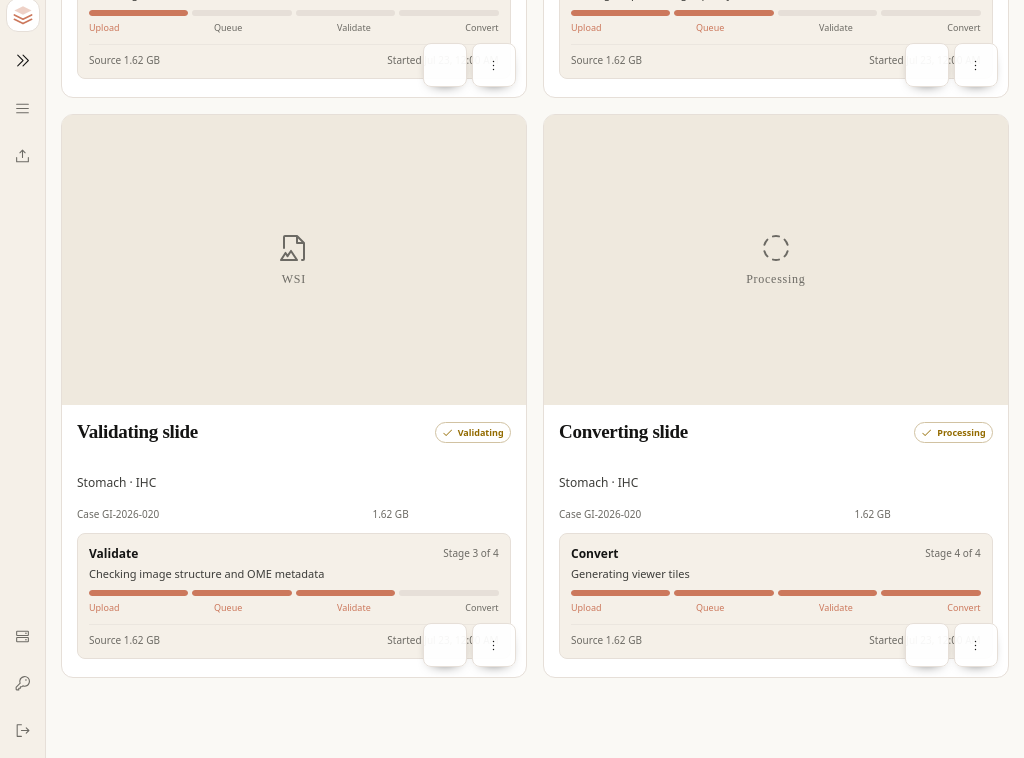
Canvas Focus library explorer › shows honest processing stages and removes completed files
The width and height of the screenshot is (1024, 758).
(page scrolled)
Expected: the text "Checking image structure and OME metadata" is shown, [89,566,325,581]
Expected: the text "Generating viewer tiles" is shown, [571,566,690,581]
Click the checkbox named "Select Converting slide" at (927, 645), box [905,623,949,667]
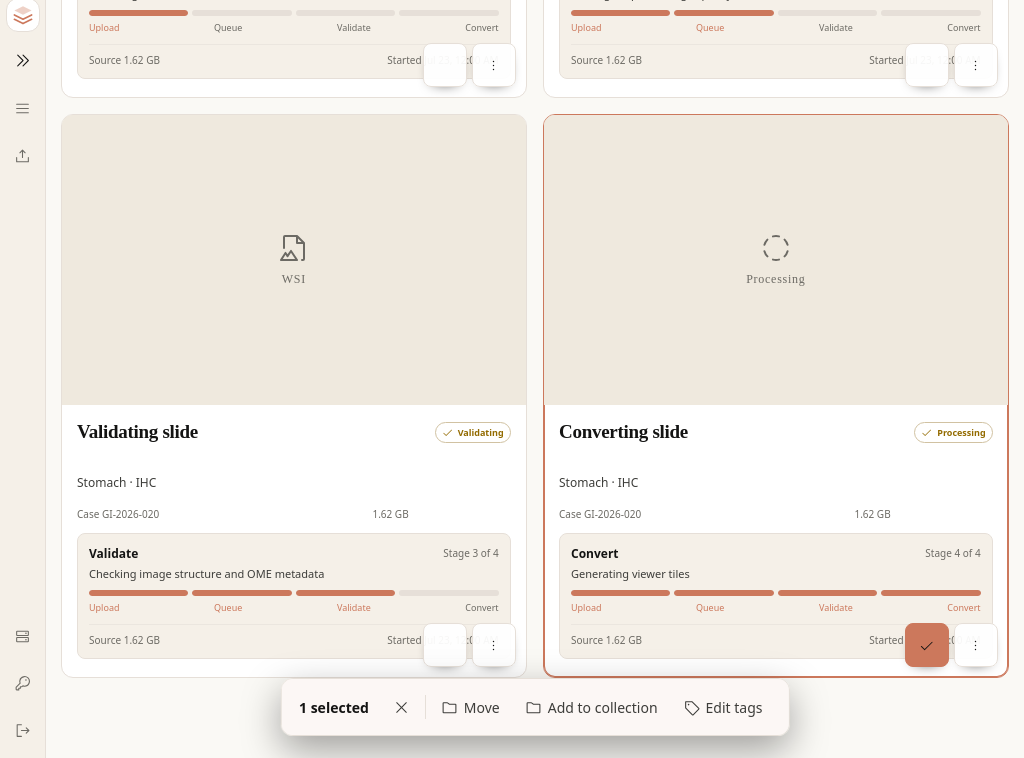
Click the checkbox named "Select Queued slide" at (927, 65), box [905,43,949,87]
Wait 4000 ms
(page scrolled)
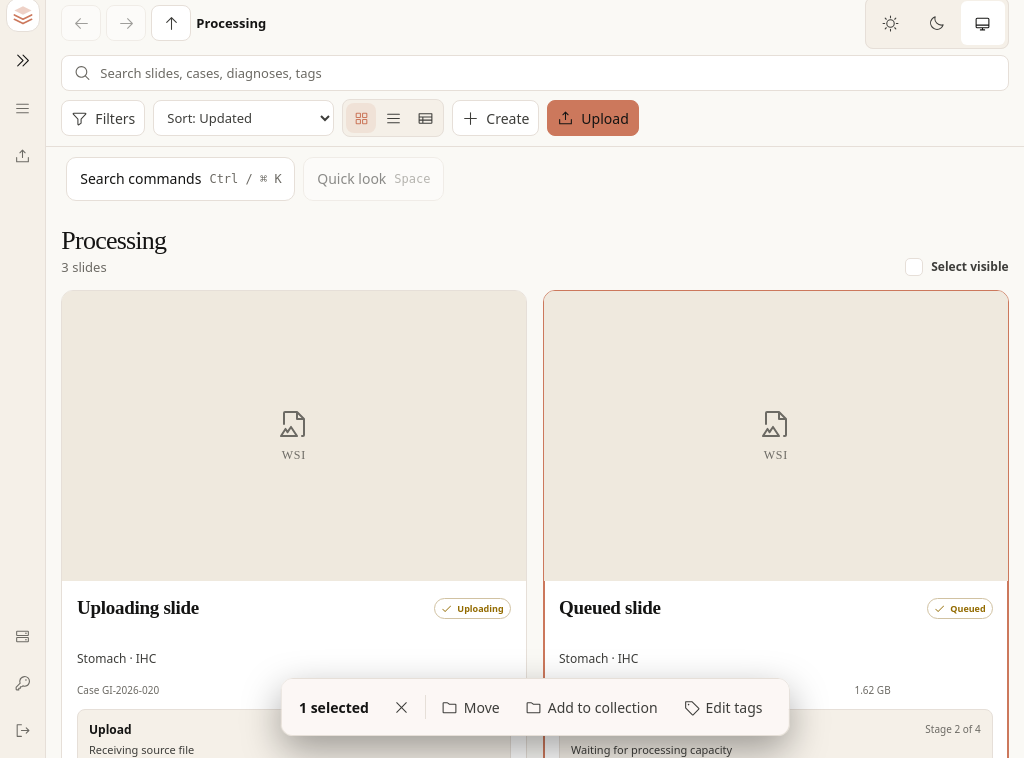
Result: the text "1 selected" is shown at [299,698,368,716]
Result: the heading "Converting slide" is gone
Result: the text "3 slides" is shown at [61,258,107,276]
